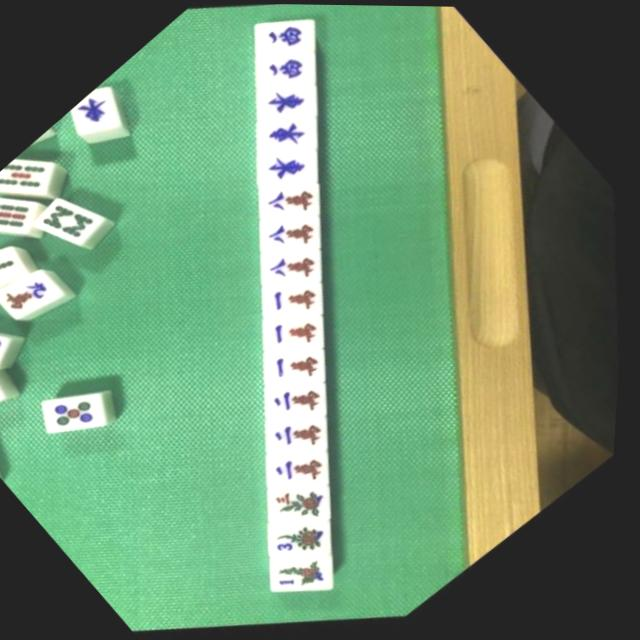bf1: (266, 532, 359, 622)
bf3: (264, 496, 360, 589)
bs3: (264, 462, 359, 553)
hwe: (245, 57, 340, 149), (248, 92, 339, 180), (249, 125, 340, 213)
hww: (245, 26, 337, 115), (241, 3, 336, 84)
sc1: (255, 288, 352, 382), (256, 322, 352, 415), (255, 257, 348, 347)
sc2: (261, 425, 358, 519), (258, 357, 354, 450), (259, 390, 355, 483)
sc8: (251, 222, 347, 315), (249, 189, 344, 281), (251, 157, 344, 247)
